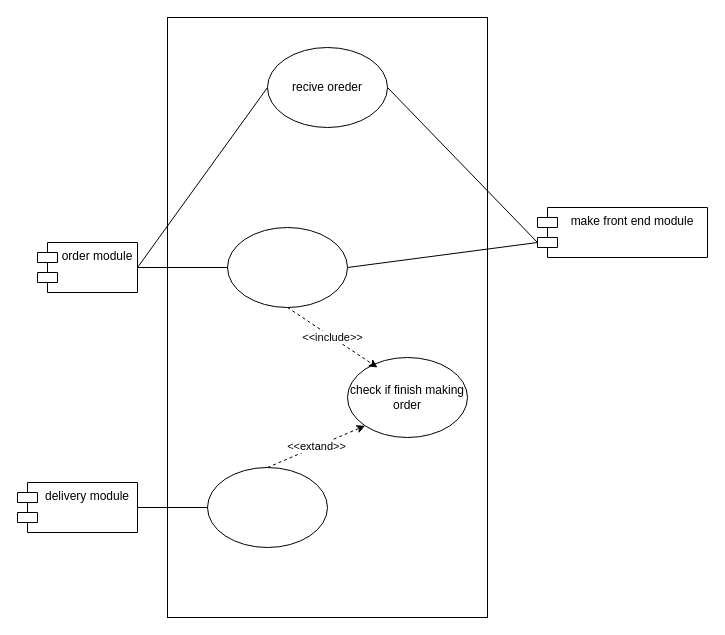
Some shapes in this 725 by 635 pixel diagram are drawn without their labels. Each missing label, with the centre of its shape:
"update deliviry" belongs at (267,507).
"update order" belongs at (287,267).
